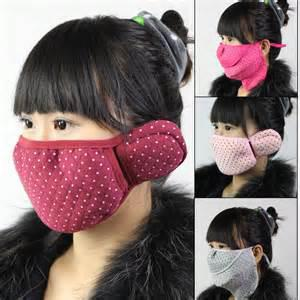OK: (12, 109, 135, 222), (208, 121, 259, 172), (208, 242, 253, 290), (218, 36, 261, 81)
